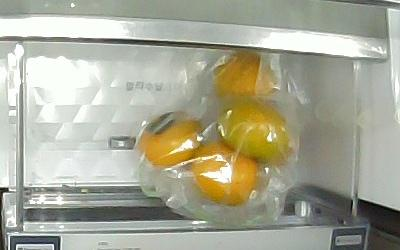persimmon_vinyl: (217, 98, 295, 168), (192, 143, 258, 206), (138, 109, 205, 168), (210, 51, 283, 100)
